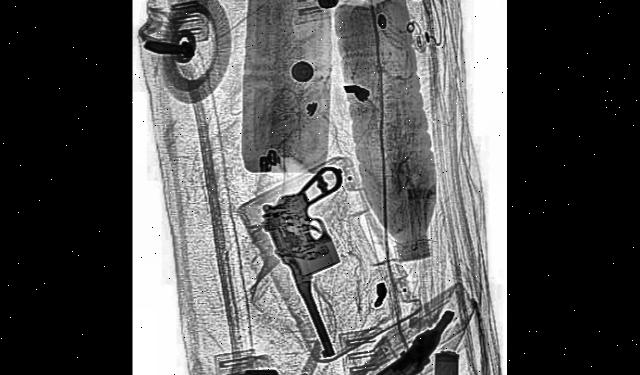Gun: (254, 129, 380, 375), (343, 293, 460, 375)
